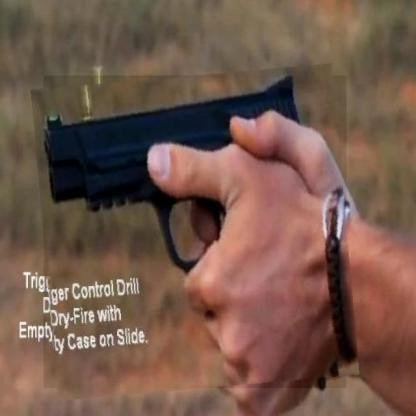handgun: (37, 69, 353, 394)
